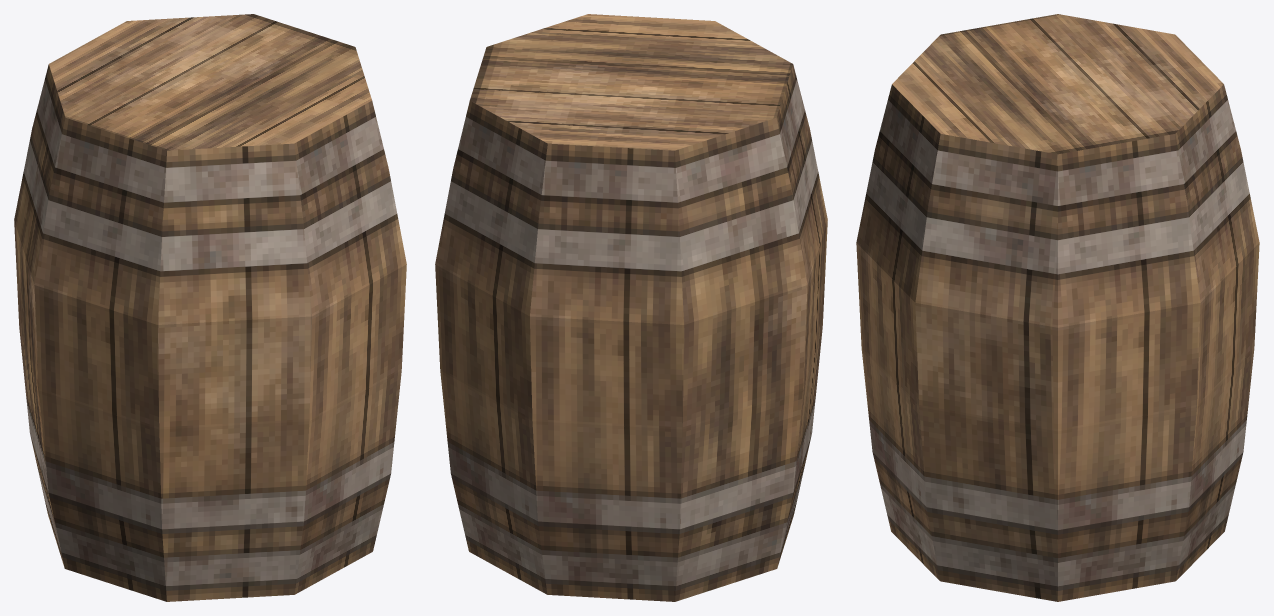
The model's file is LowPoly_Tomedelic_Barrel.fbx.
3 renders of one model, left to right at view 1: azimuth 30°, elevation 25°; view 2: azimuth 150°, elevation 25°; view 3: azimuth 270°, elevation 25°, orthographic.
Parts seen in each view (by area): view 1: Cylinder; view 2: Cylinder; view 3: Cylinder.
Boxes of the visible parts, x1,y1,x2,y2 form: Cylinder: (14, 14, 406, 601); Cylinder: (435, 14, 827, 601); Cylinder: (856, 14, 1259, 601).
Bounding box in the file's own units: 225 × 275 × 225.
1 material, 1 textured.
